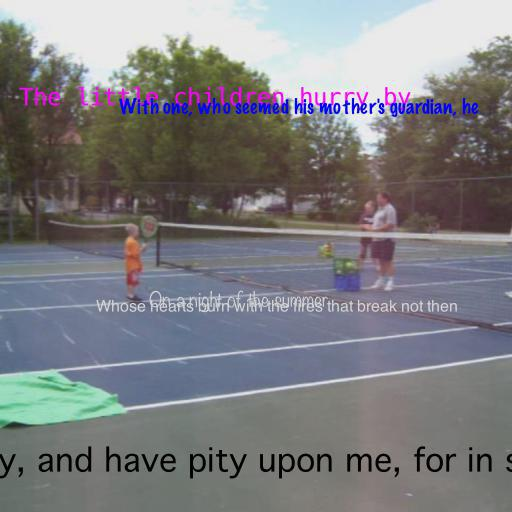Geneva: (0, 446, 512, 479)
Marker Felt: (119, 97, 479, 118)
Menlo: (19, 87, 411, 111)
Noteworthy: (148, 290, 328, 313)
SignPainter: (96, 299, 458, 312)
